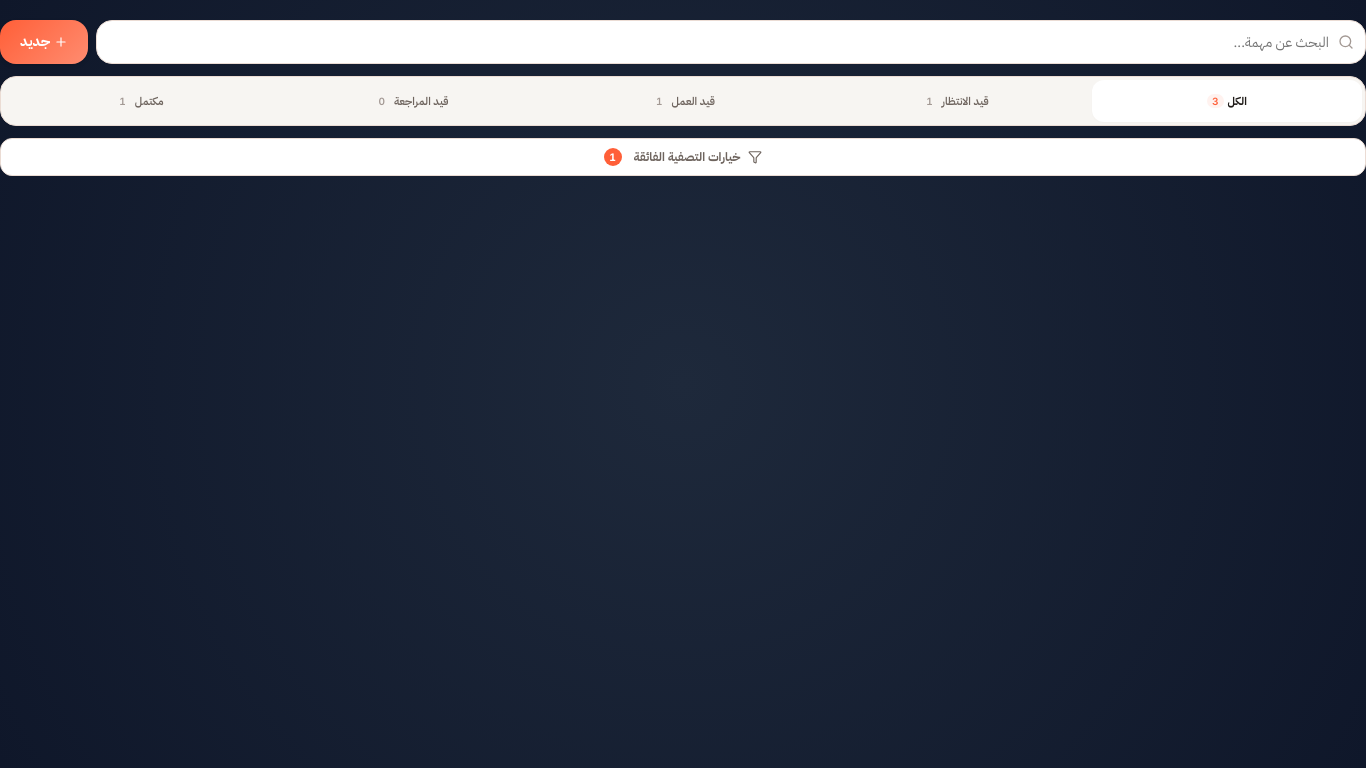
Test case: TaskFilter › renders member filter pills
This screenshot has width=1366, height=768.
Click the text "خيارات التصفية الفائقة". click: click(687, 157)
box: [634,148,740,166]
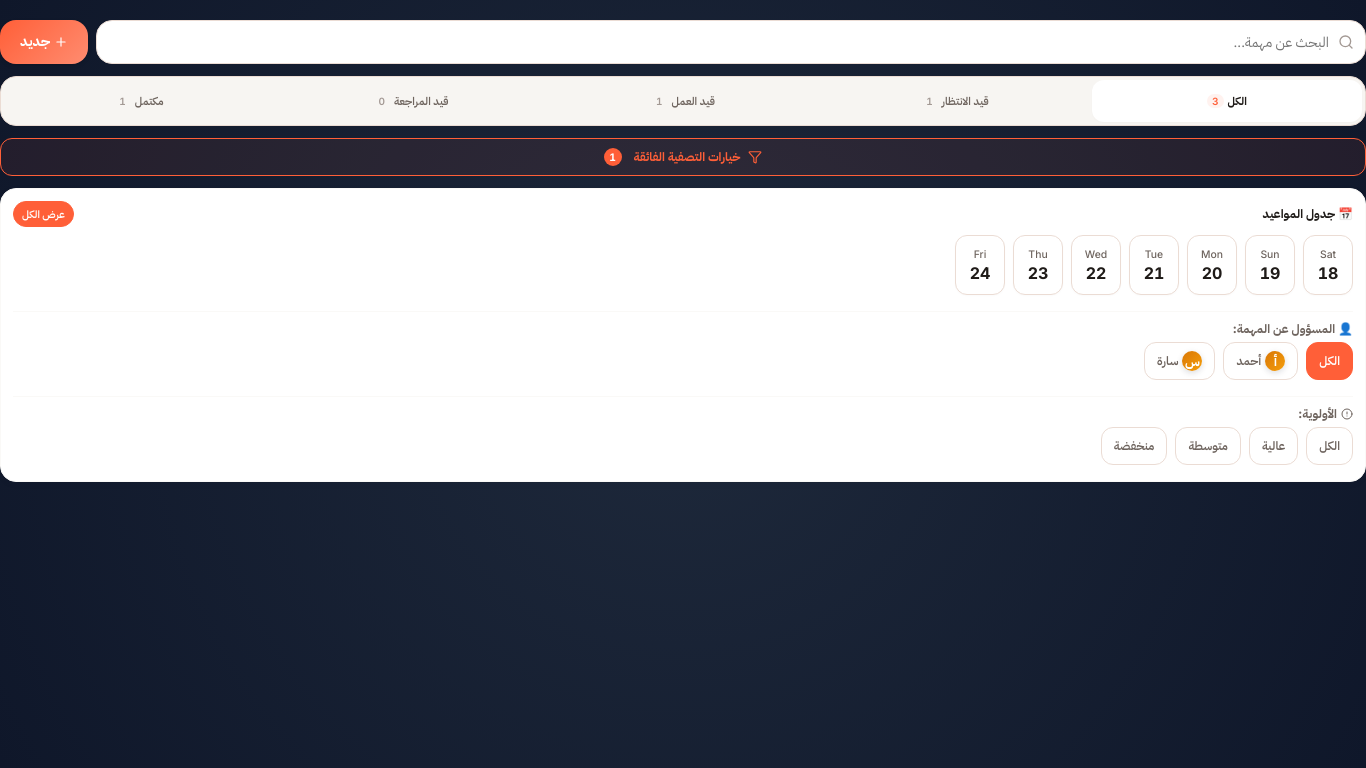
Expected: the button "أ أحمد" is shown, [1223,342,1298,380]
Expected: the button "س سارة" is shown, [1144,342,1215,380]
